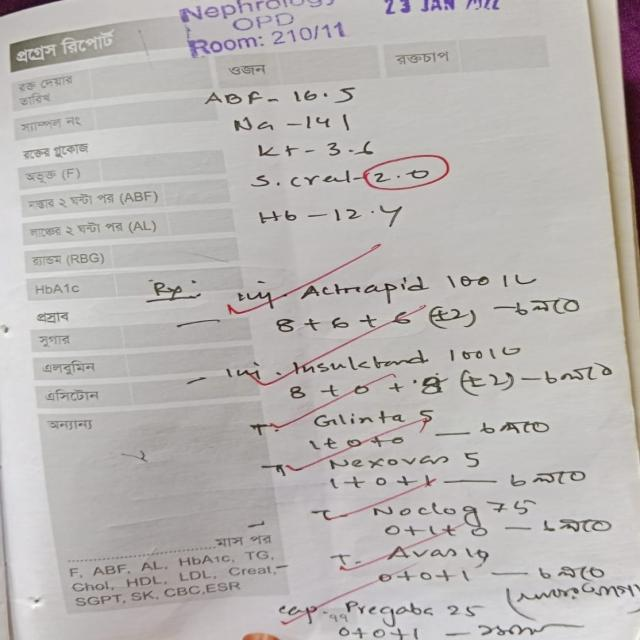Actrapid: (292, 276, 449, 302)
Avas: (387, 542, 464, 563)
Glinta: (312, 410, 414, 430)
Insulatard: (272, 350, 433, 374)
Nexovas: (322, 451, 464, 476)
Noclog: (368, 492, 484, 525)
Pregaba: (337, 596, 436, 622)
